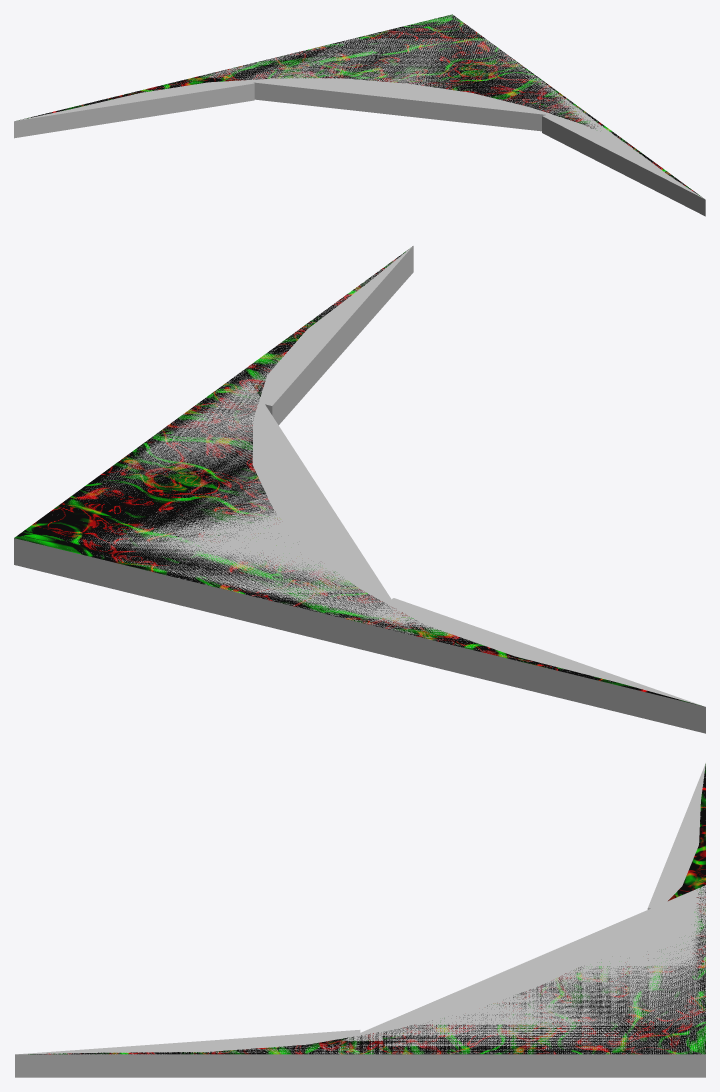
Rendered from floor_small_inverse_SM.fbx.
The picture shows the model from 3 angles, top to bottom: view 1: azimuth 30°, elevation 25°; view 2: azimuth 150°, elevation 25°; view 3: azimuth 270°, elevation 25°; orthographic projection. The views are drawn at different scales.
Visible parts, largest first — view 1: floor_small_inverse_SM_ConvexHulls, floor_small_inverse_SM; view 2: floor_small_inverse_SM_ConvexHulls, floor_small_inverse_SM; view 3: floor_small_inverse_SM_ConvexHulls, floor_small_inverse_SM.
Boxes of the visible parts, bbox=[...] form: floor_small_inverse_SM_ConvexHulls: bbox=[14, 15, 705, 216]; floor_small_inverse_SM: bbox=[19, 14, 702, 197]; floor_small_inverse_SM_ConvexHulls: bbox=[14, 246, 705, 733]; floor_small_inverse_SM: bbox=[14, 246, 701, 705]; floor_small_inverse_SM_ConvexHulls: bbox=[15, 763, 705, 1077]; floor_small_inverse_SM: bbox=[28, 764, 705, 1054].
Bounding box in the file's own units: 1024 × 1025 × 37.9.
Materials: 2 (1 with a texture image).
